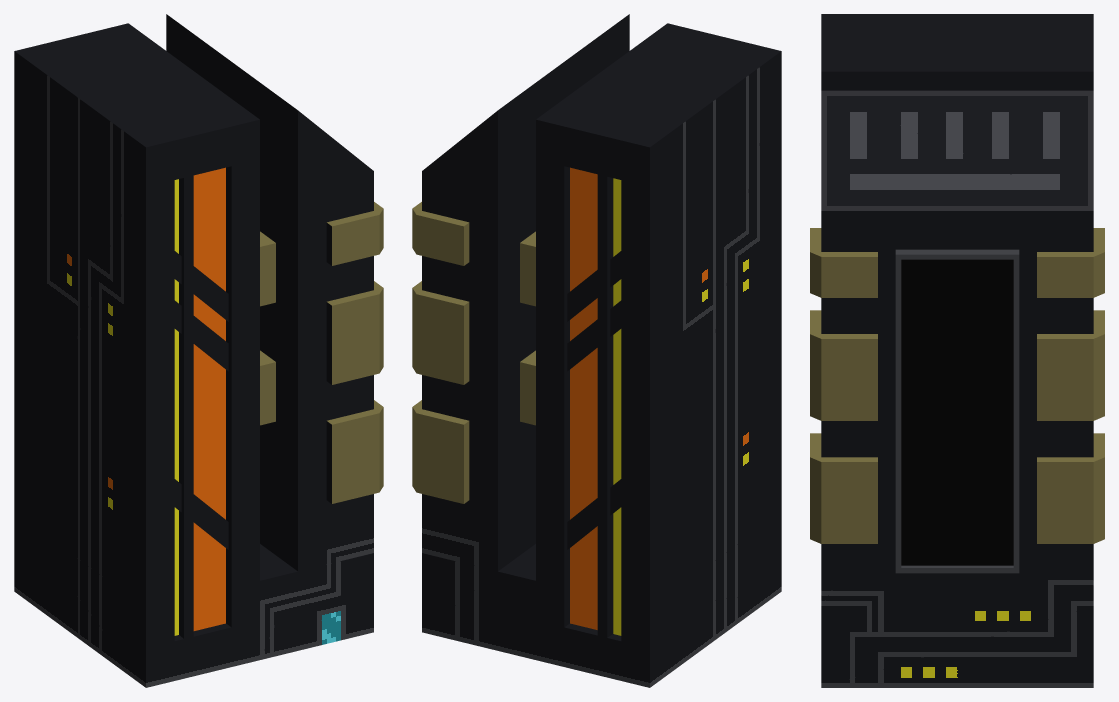
File: Building_4_1x1.gltf
3 views of the same model, side by side, from view 1: azimuth 30°, elevation 25°; view 2: azimuth 150°, elevation 25°; view 3: azimuth 270°, elevation 25° (orthographic). The views are drawn at different scales.
Visible parts, largest first — view 1: cuboid; view 2: cuboid; view 3: cuboid, Sign.
Part boxes in pixels (left/top/right/bottom): cuboid: left=14, top=14, right=383, bottom=687; cuboid: left=412, top=14, right=781, bottom=687; cuboid: left=810, top=14, right=1104, bottom=687; Sign: left=895, top=249, right=1019, bottom=573.
Size of the model in its own units: 12.5 by 27.19 by 13.
Materials: 1 (1 with a texture image).
